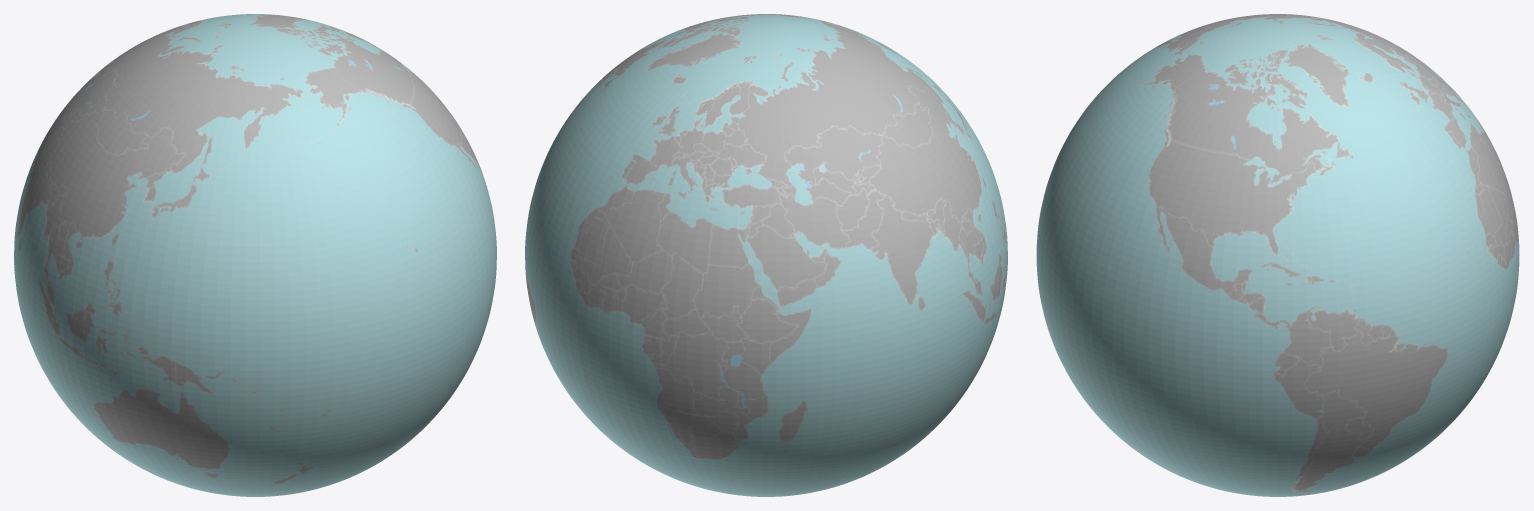
File: globe_lowres.glb
The picture shows the model from 3 angles, left to right: view 1: azimuth 30°, elevation 25°; view 2: azimuth 150°, elevation 25°; view 3: azimuth 270°, elevation 25°; orthographic projection.
Parts seen in each view (by area): view 1: Sphere; view 2: Sphere; view 3: Sphere.
Part boxes in pixels (<box>): Sphere: <box>14,14,496,496</box>; Sphere: <box>525,14,1007,496</box>; Sphere: <box>1036,14,1519,496</box>.
Bounding box in the file's own units: 2 × 2 × 2.
Materials: 1 (1 with a texture image).
